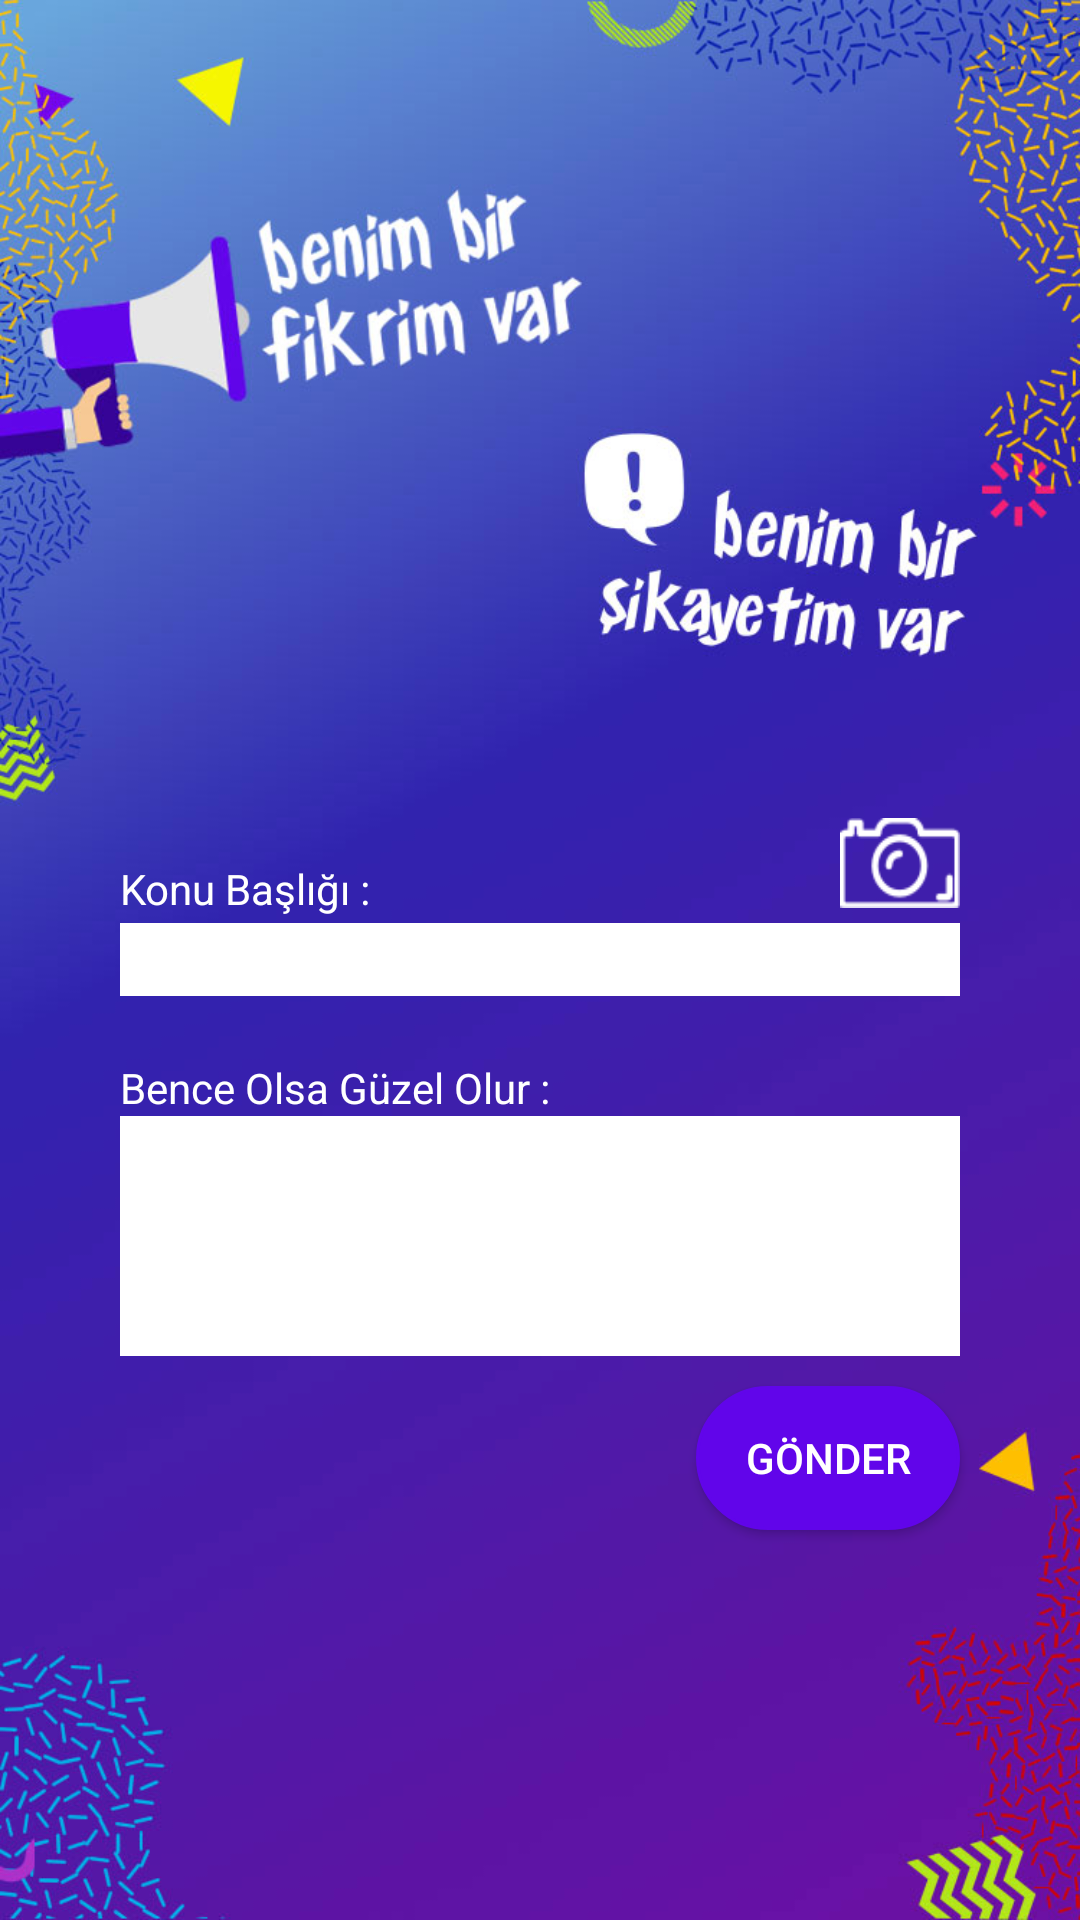

Point at icon controls on the screen. Image size 1080×1920, points as [x,y].
foto: [900,863]
